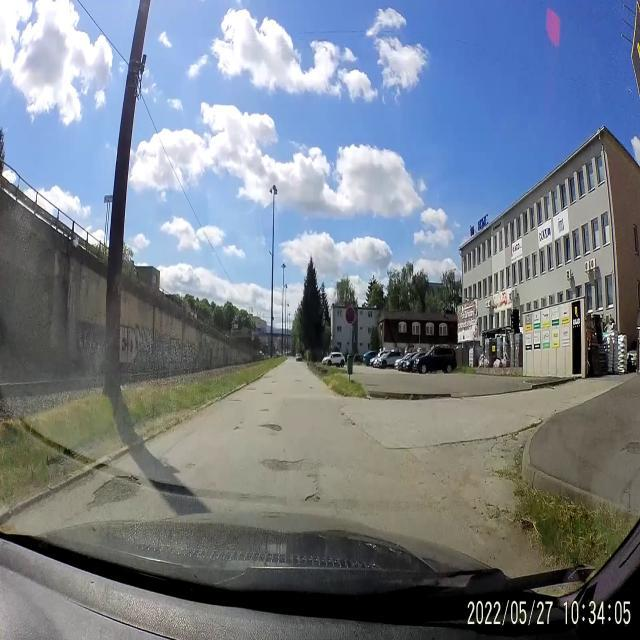Pothole: (82, 468, 144, 512), (258, 450, 308, 476), (258, 418, 284, 441), (300, 484, 322, 509), (225, 394, 244, 404), (256, 404, 270, 416), (264, 390, 274, 400)
